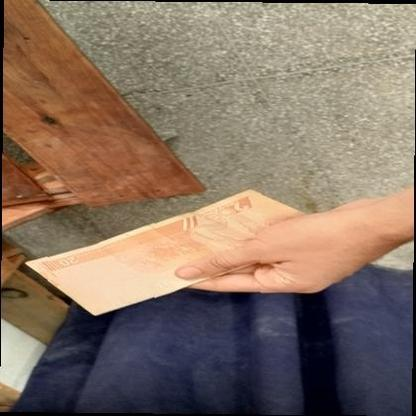twenty-back-vef: (25, 188, 306, 316)
